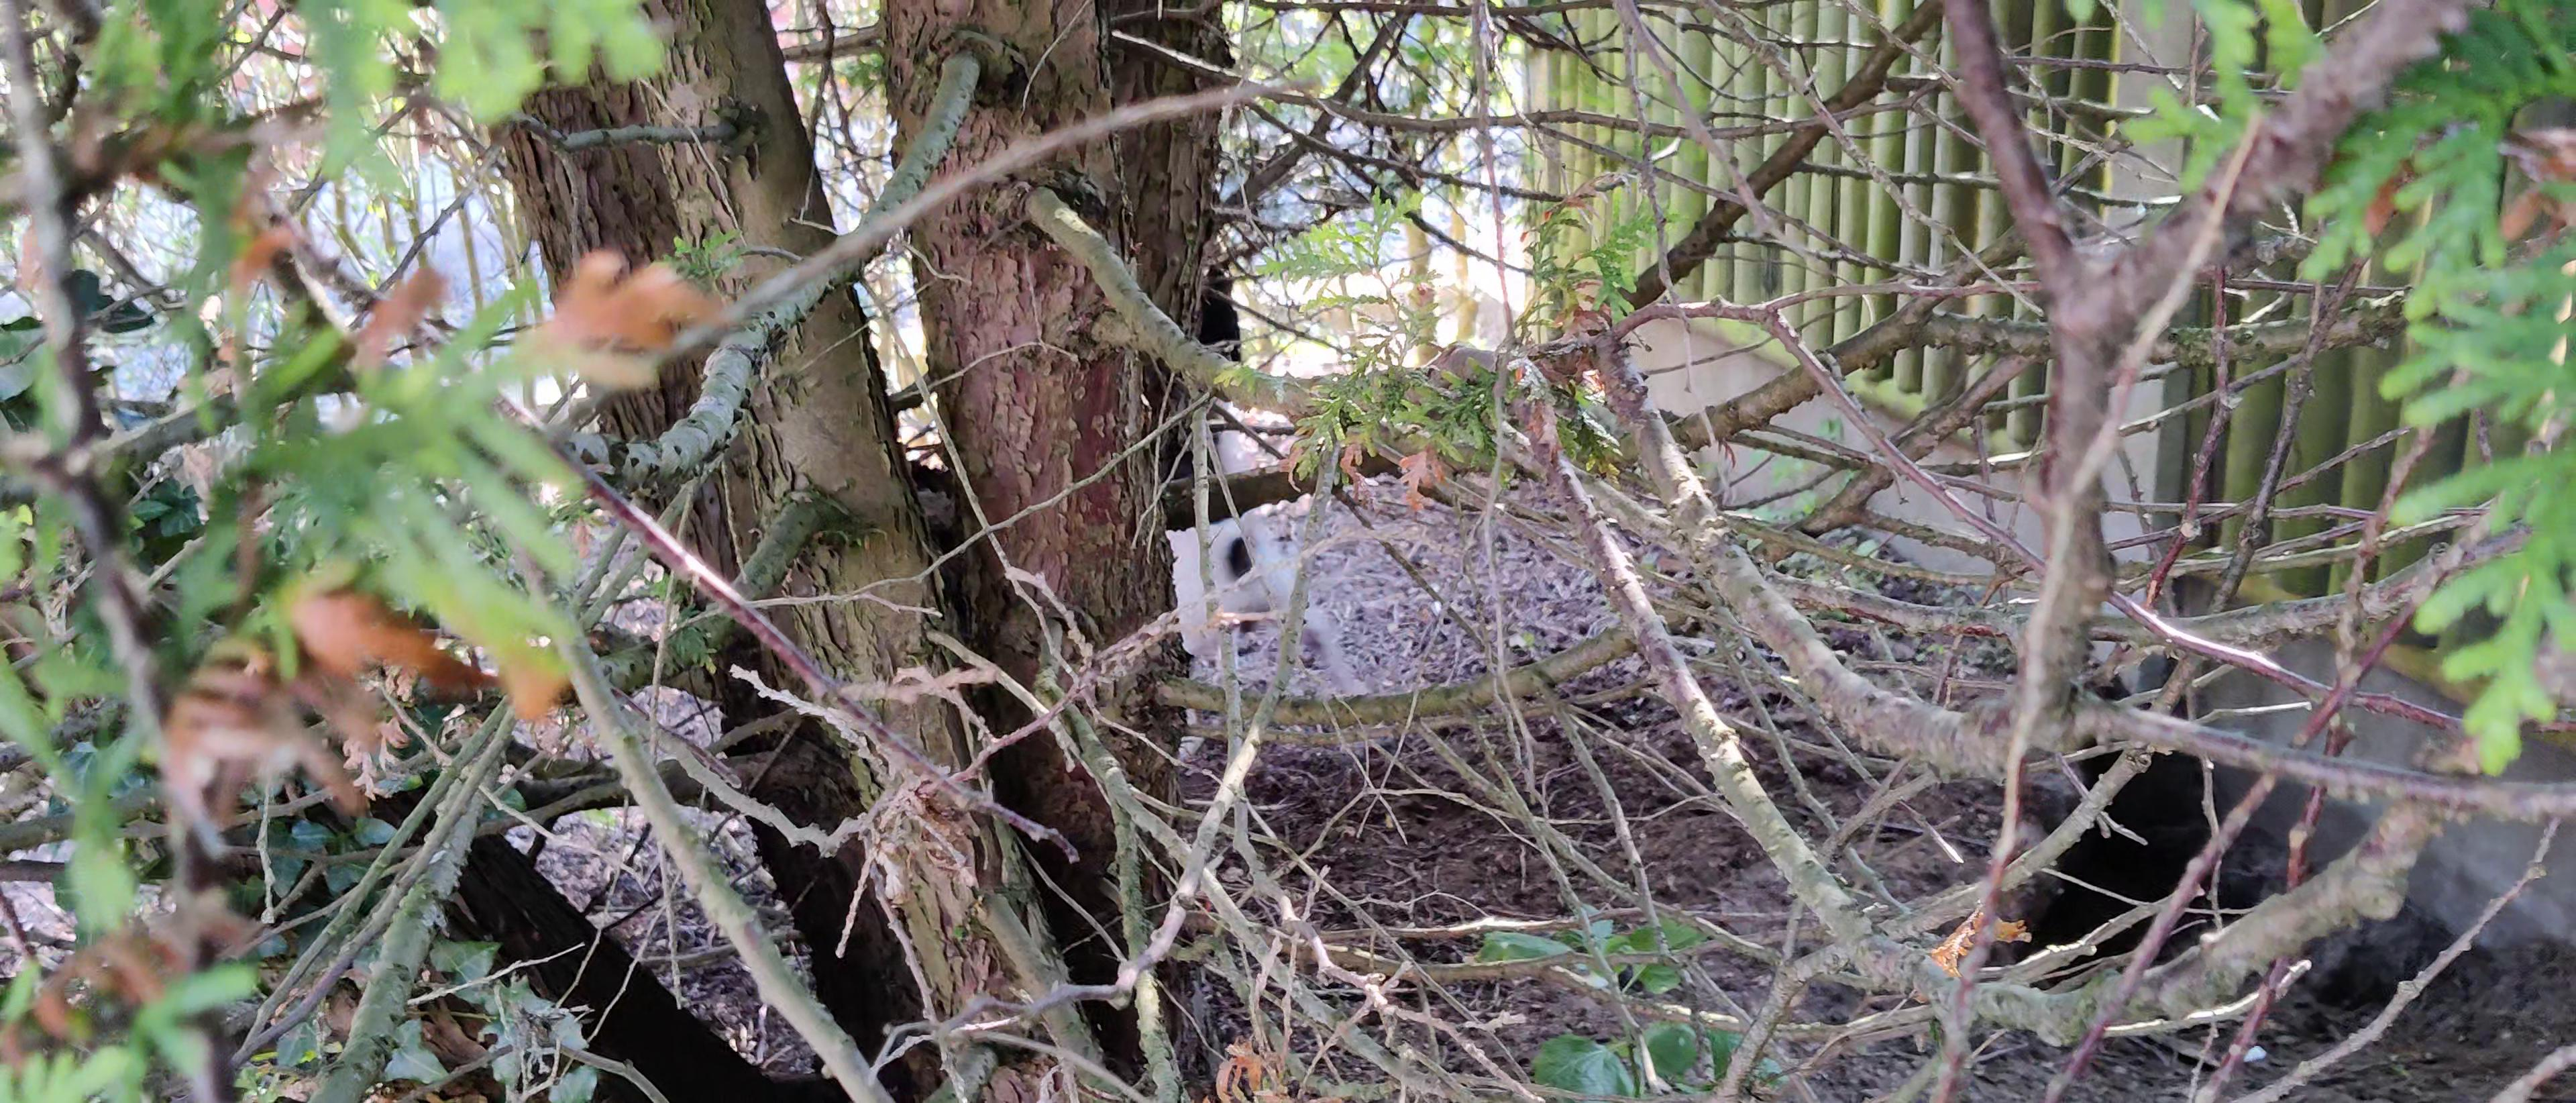Dog: (1117, 260, 1400, 786)
